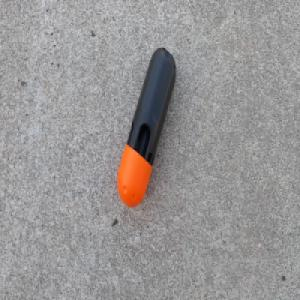PlasticPart: (115, 46, 177, 209)
